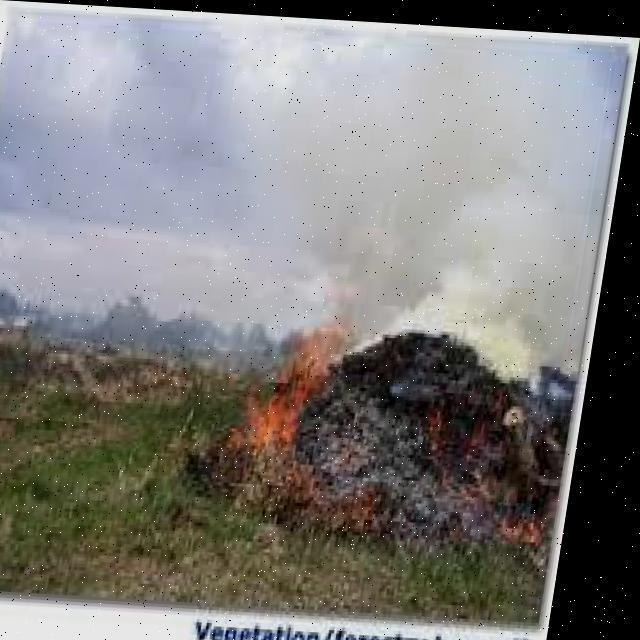Fire: (236, 310, 374, 459)
